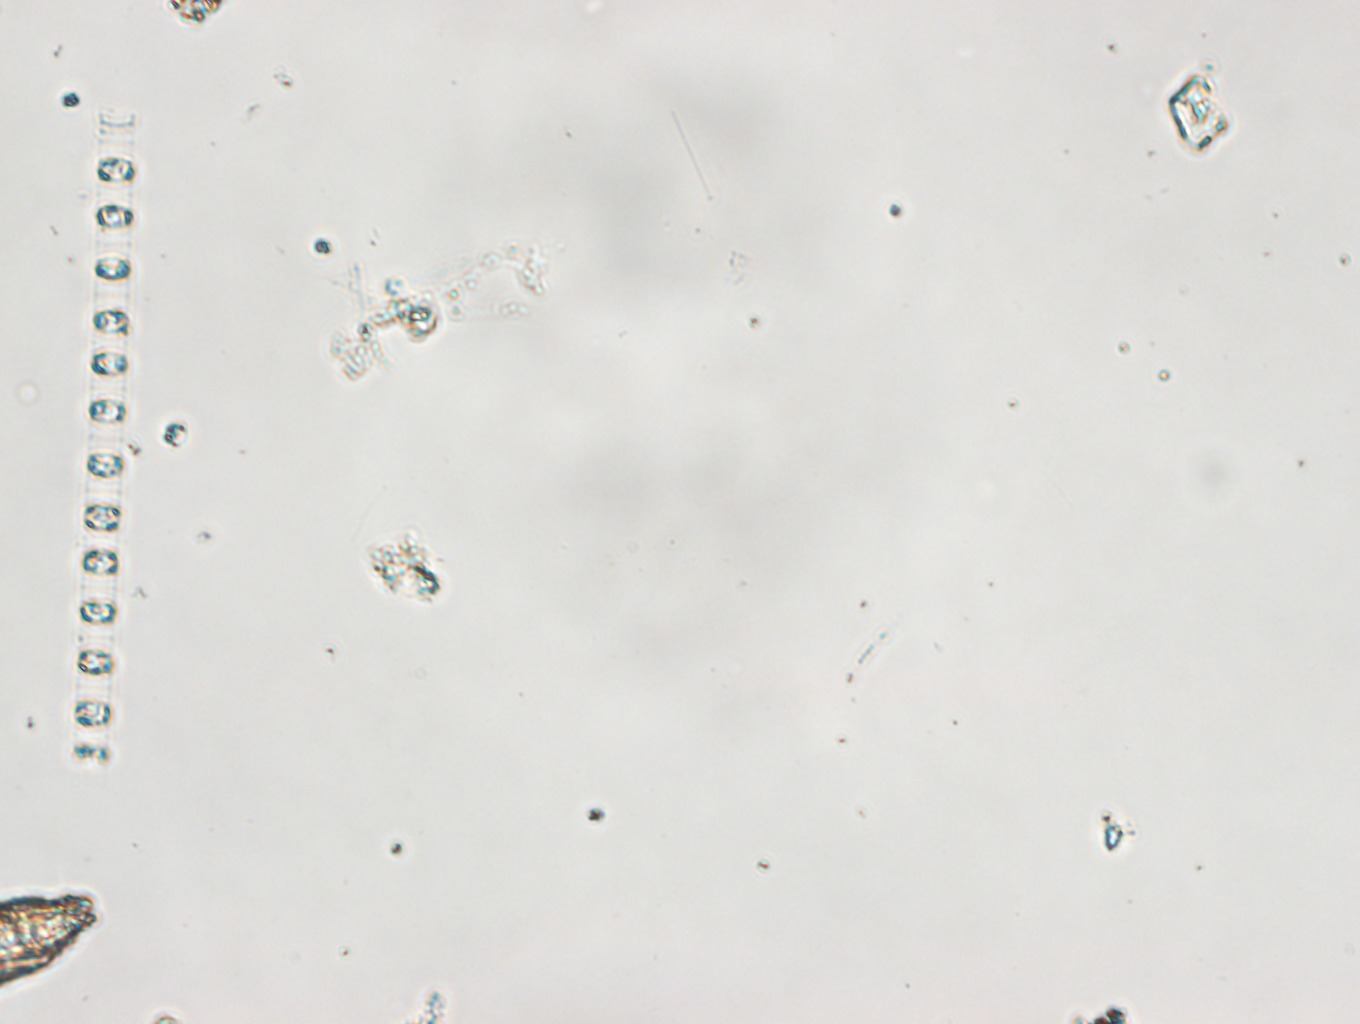skeletonema: (78, 115, 137, 753)
